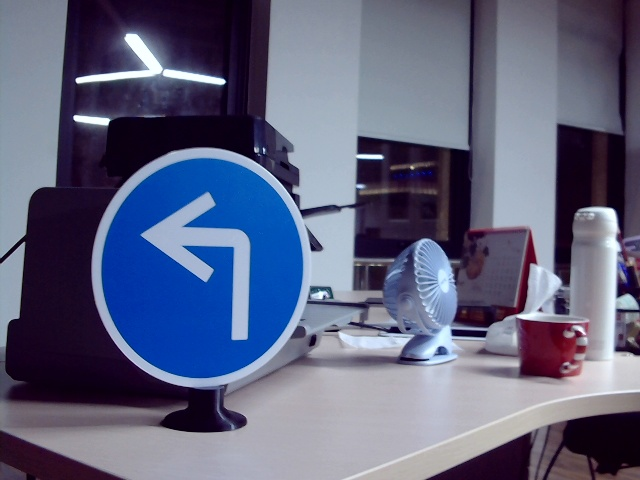turn_left: (141, 190, 258, 348)
